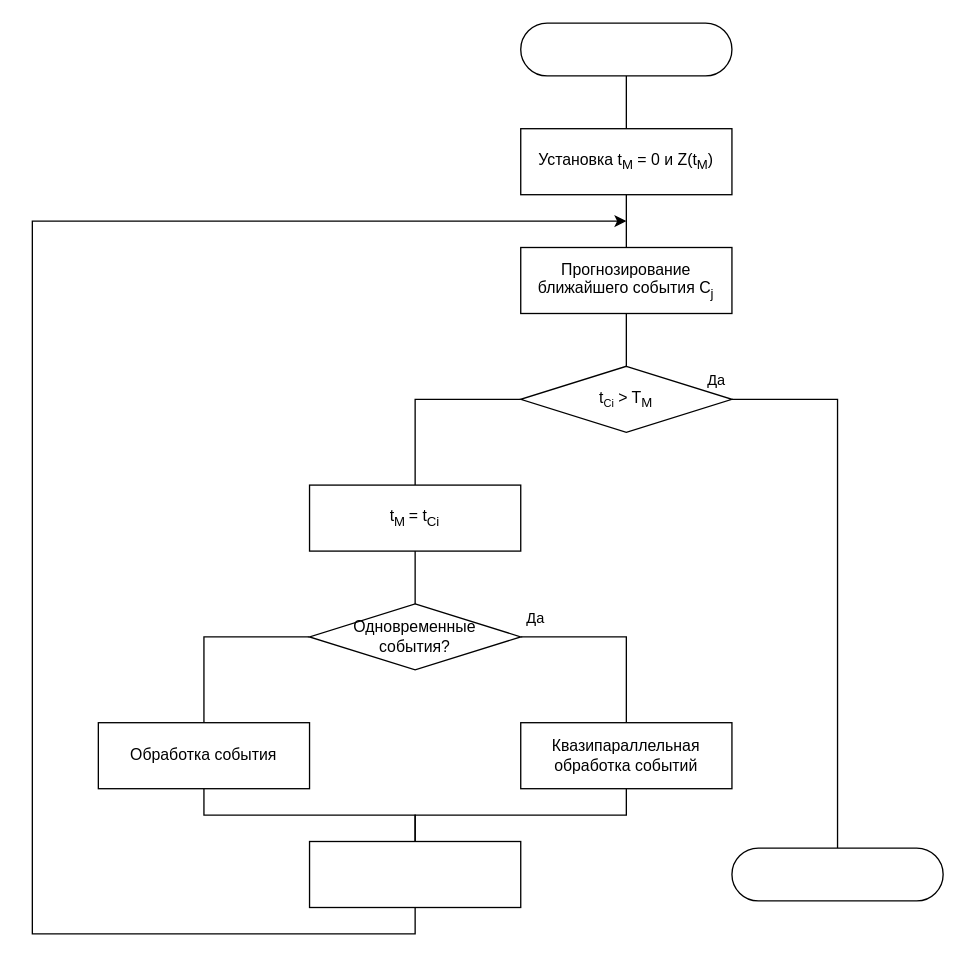
Some shapes in this 966 by 968 pixel diagram are drawn without their labels. The shapes that lost their labels are listed below. From the top down, each one's centre as x and y in pixels, then its label:
(625,49): Начало
(414,874): Определение Z(t M )
(837,874): Конец
